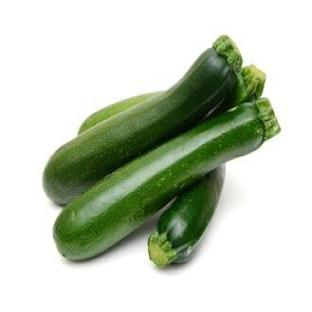Zucchini: (55, 99, 279, 260), (43, 36, 241, 205), (148, 166, 224, 267), (78, 92, 160, 134), (79, 92, 161, 134)
